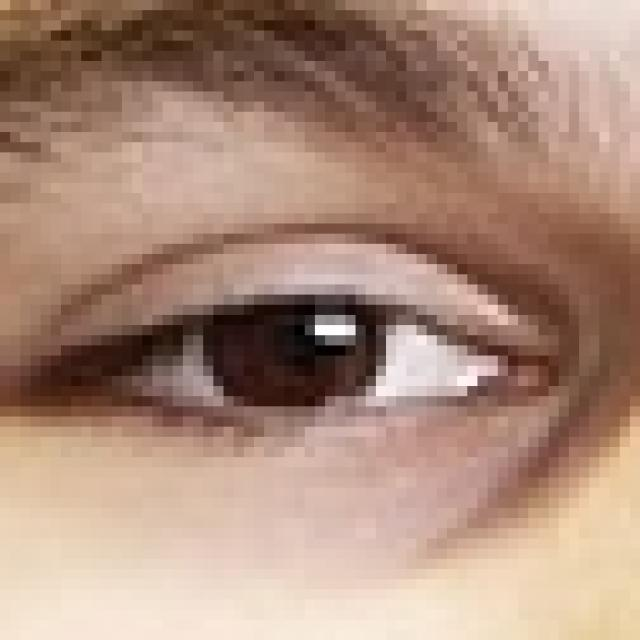eye: (12, 165, 606, 534)
gaze: (191, 280, 397, 426)
